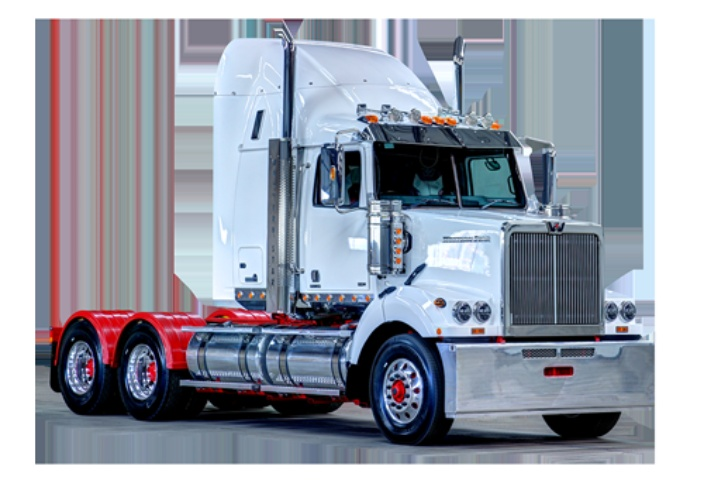truck: (27, 29, 670, 444)
